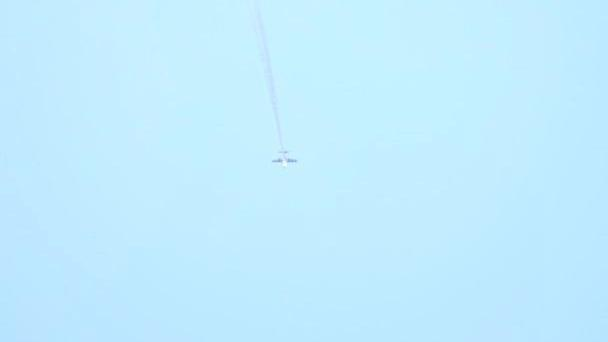Plane: (261, 147, 308, 174)
